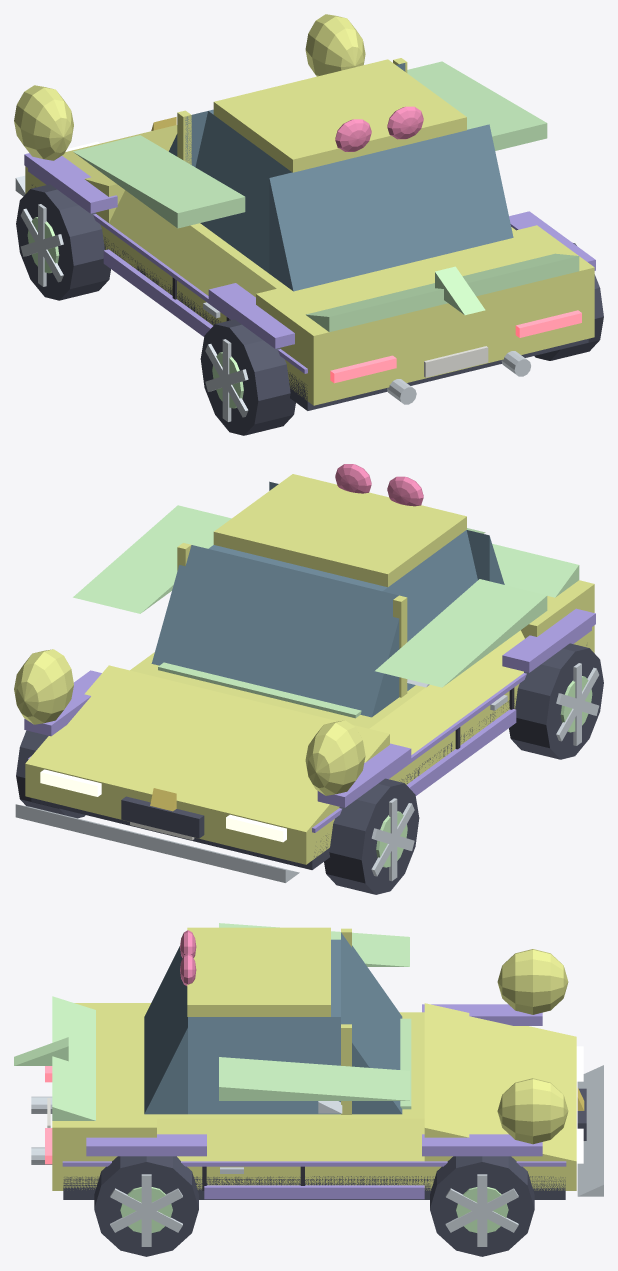
File: goblin_glider.glb
3 renders of one model, top to bottom at view 1: azimuth 30°, elevation 25°; view 2: azimuth 150°, elevation 25°; view 3: azimuth 270°, elevation 25°, orthographic. The views are drawn at different scales.
Visible parts, largest first — view 1: RearWindow.224, Tail.125, Roof.324, Body.324, Wing_L.011, CabinSideL.121, ShoulderL.121, Wheel_RL.264, Wheel_FL.264, Ducktail.084, Wing_R.011, Claw-1.009 (+22 smaller); view 2: Nose.121, Windshield.224, Roof.324, Wing_L.011, Body.324, Wing_R.011, Wheel_FL.264, Wheel_RL.264, ShoulderL.121, CabinSideL.121, Bumper.320, Claw-1.009 (+22 smaller); view 3: Nose.121, Roof.324, ShoulderR.121, CabinSideR.121, Tail.125, Wing_R.011, Body.324, Wheel_FR.264, Wheel_RR.264, Windshield.224, RearWindow.224, Ducktail.084 (+23 smaller).
Part boxes in pixels (left/top/right/bottom): RearWindow.224: left=269, top=124, right=513, bottom=291; Tail.125: left=256, top=225, right=594, bottom=372; Roof.324: left=213, top=59, right=466, bottom=172; Body.324: left=25, top=166, right=594, bottom=405; Wing_L.011: left=73, top=135, right=245, bottom=228; CabinSideL.121: left=195, top=111, right=291, bottom=273; ShoulderL.121: left=109, top=190, right=276, bottom=297; Wheel_RL.264: left=200, top=319, right=295, bottom=435; Wheel_FL.264: left=16, top=184, right=110, bottom=300; Ducktail.084: left=306, top=253, right=579, bottom=331; Wing_R.011: left=407, top=61, right=547, bottom=150; Claw-1.009: left=14, top=85, right=73, bottom=160; Nose.121: left=25, top=665, right=389, bottom=831; Windshield.224: left=151, top=545, right=399, bottom=717; Roof.324: left=213, top=474, right=466, bottom=587; Wing_L.011: left=375, top=579, right=547, bottom=687; Body.324: left=25, top=625, right=594, bottom=864; Wing_R.011: left=73, top=505, right=231, bottom=613; Wheel_FL.264: left=324, top=778, right=419, bottom=894; Wheel_RL.264: left=509, top=643, right=603, bottom=759; ShoulderL.121: left=369, top=630, right=524, bottom=754; CabinSideL.121: left=383, top=530, right=477, bottom=690; Bumper.320: left=15, top=804, right=299, bottom=882; Claw-1.009: left=305, top=720, right=365, bottom=795; Nose.121: left=424, top=1003, right=576, bottom=1161; Roof.324: left=187, top=927, right=330, bottom=1016; ShoulderR.121: left=157, top=1118, right=424, bottom=1161; CabinSideR.121: left=188, top=1017, right=340, bottom=1114; Tail.125: left=52, top=1003, right=156, bottom=1161; Wing_R.011: left=219, top=1057, right=409, bottom=1100; Body.324: left=52, top=1161, right=576, bottom=1190; Wheel_FR.264: left=430, top=1156, right=534, bottom=1256; Wheel_RR.264: left=94, top=1156, right=198, bottom=1256; Windshield.224: left=341, top=932, right=402, bottom=1114; RearWindow.224: left=144, top=946, right=187, bottom=1114; Ducktail.084: left=52, top=996, right=95, bottom=1120.
Bounding box in the file's own units: 3.55 × 2.39 × 5.4.
